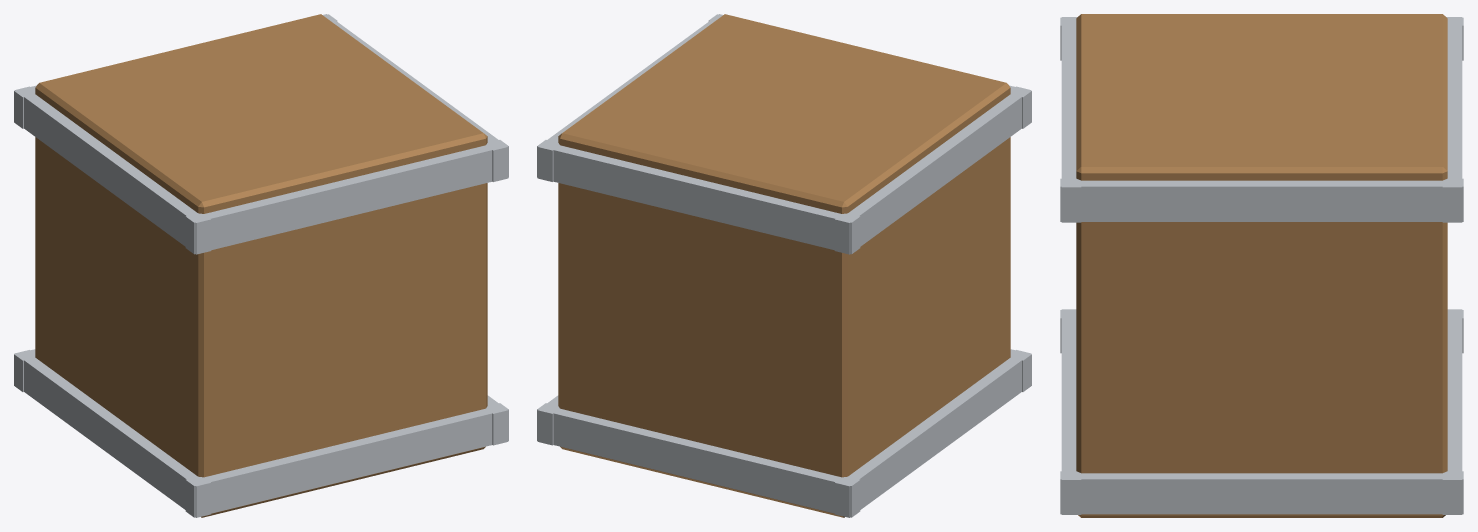
Rendered from crate.glb.
The picture shows the model from 3 angles, left to right: view 1: azimuth 30°, elevation 25°; view 2: azimuth 150°, elevation 25°; view 3: azimuth 270°, elevation 25°; orthographic projection. The views are drawn at different scales.
Visible parts, largest first — view 1: harbor_crate; view 2: harbor_crate; view 3: harbor_crate.
Boxes of the visible parts, x1,y1,x2,y2 form: harbor_crate: (14, 14, 508, 517); harbor_crate: (537, 14, 1031, 517); harbor_crate: (1060, 14, 1463, 517).
Bounding box in the file's own units: 1.25 × 1.2 × 1.25.
